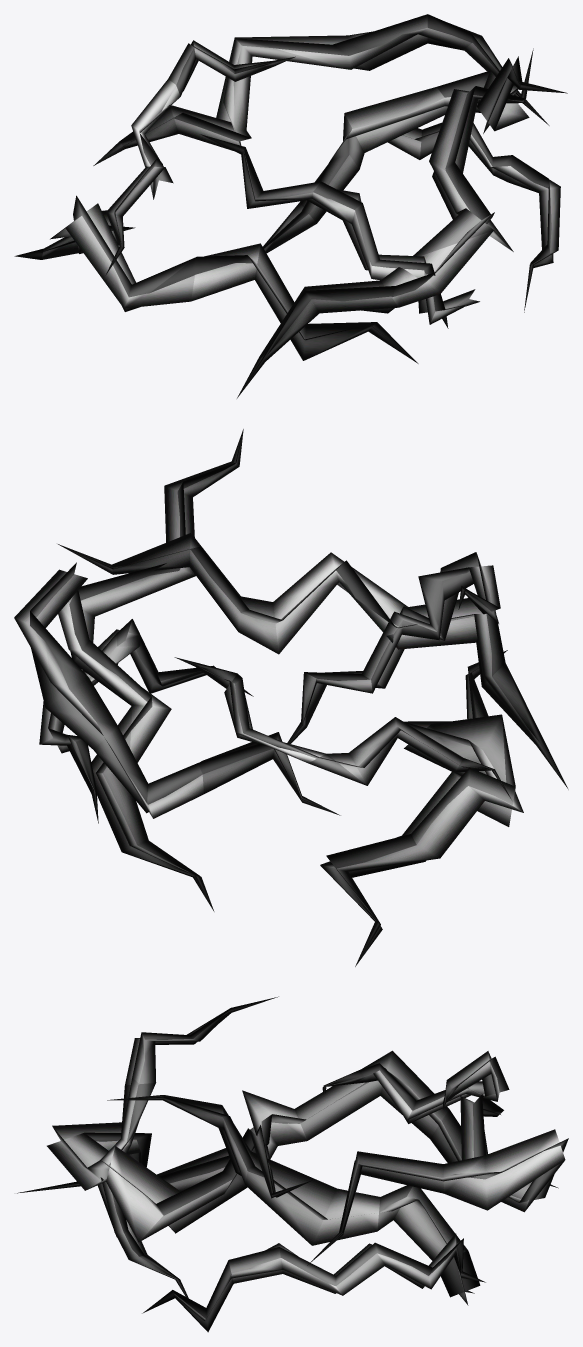
The model's file is vfx_kurp_0135.dae.
3 views of the same model, one above another, from view 1: azimuth 30°, elevation 25°; view 2: azimuth 150°, elevation 25°; view 3: azimuth 270°, elevation 25° (orthographic). The views are drawn at different scales.
Visible parts, largest first — view 1: vfx_kurp_0135; view 2: vfx_kurp_0135; view 3: vfx_kurp_0135.
Part boxes in pixels (<box>): vfx_kurp_0135: <box>14,14,567,398</box>; vfx_kurp_0135: <box>14,429,568,966</box>; vfx_kurp_0135: <box>17,996,568,1332</box>.
Bounding box in the file's own units: 4.48 × 4.85 × 2.61.
1 material, 1 textured.
